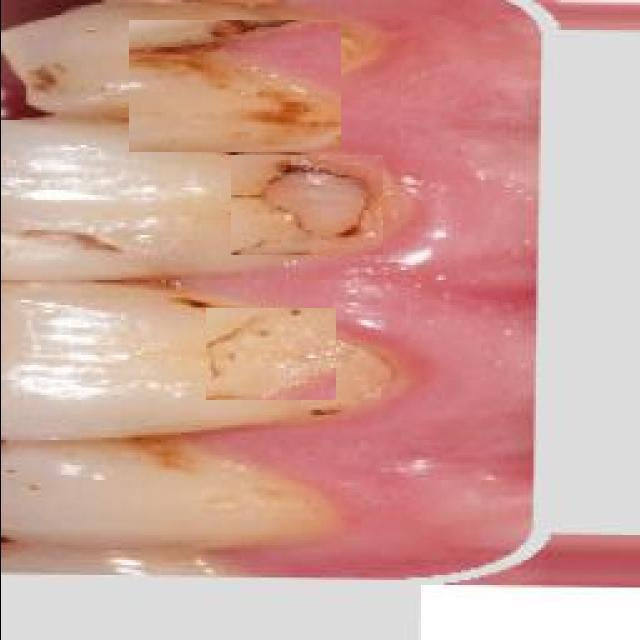caries: (128, 20, 340, 152), (230, 155, 382, 255), (205, 308, 335, 400), (27, 213, 115, 265), (25, 45, 85, 90)
